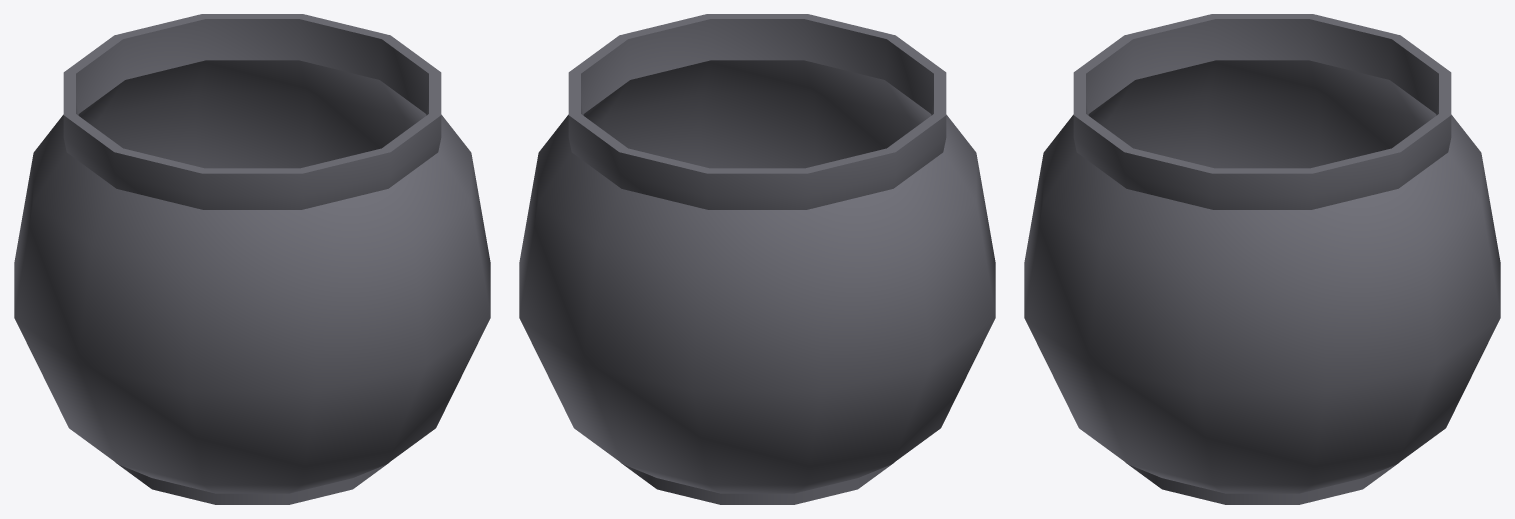
File: Pot_02.fbx
3 renders of one model, left to right at view 1: azimuth 30°, elevation 25°; view 2: azimuth 150°, elevation 25°; view 3: azimuth 270°, elevation 25°, orthographic.
Visible parts, largest first — view 1: Pot_02_LOD0; view 2: Pot_02_LOD0; view 3: Pot_02_LOD0.
Boxes of the visible parts, x1,y1,x2,y2 form: Pot_02_LOD0: (14, 14, 490, 504); Pot_02_LOD0: (519, 14, 995, 504); Pot_02_LOD0: (1024, 14, 1500, 504).
Size of what is drawn, in the model's own units: 0.2055 by 0.168 by 0.2055.
